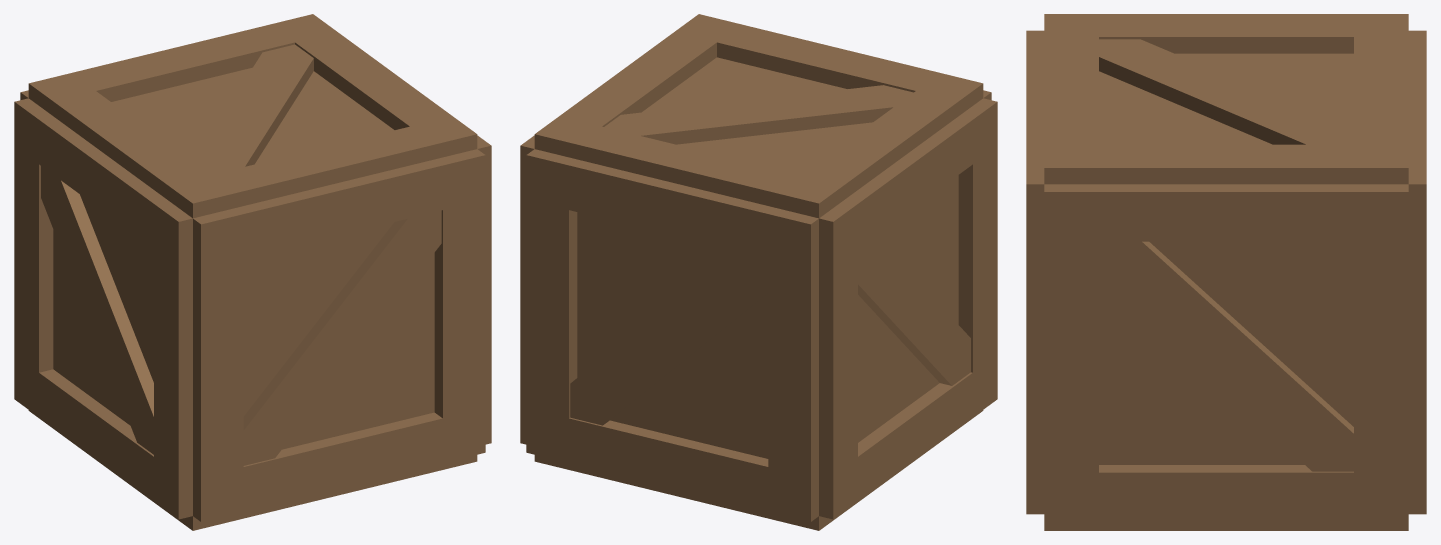
3 views of the same model, side by side, from view 1: azimuth 30°, elevation 25°; view 2: azimuth 150°, elevation 25°; view 3: azimuth 270°, elevation 25° (orthographic). The views are drawn at different scales.
Visible parts, largest first — view 1: Box; view 2: Box; view 3: Box.
Part boxes in pixels (x1,y1,x2,y2): Box: (14, 14, 491, 530); Box: (520, 14, 997, 530); Box: (1026, 14, 1426, 530).
Size of the model in its own units: 220 by 220 by 220.
